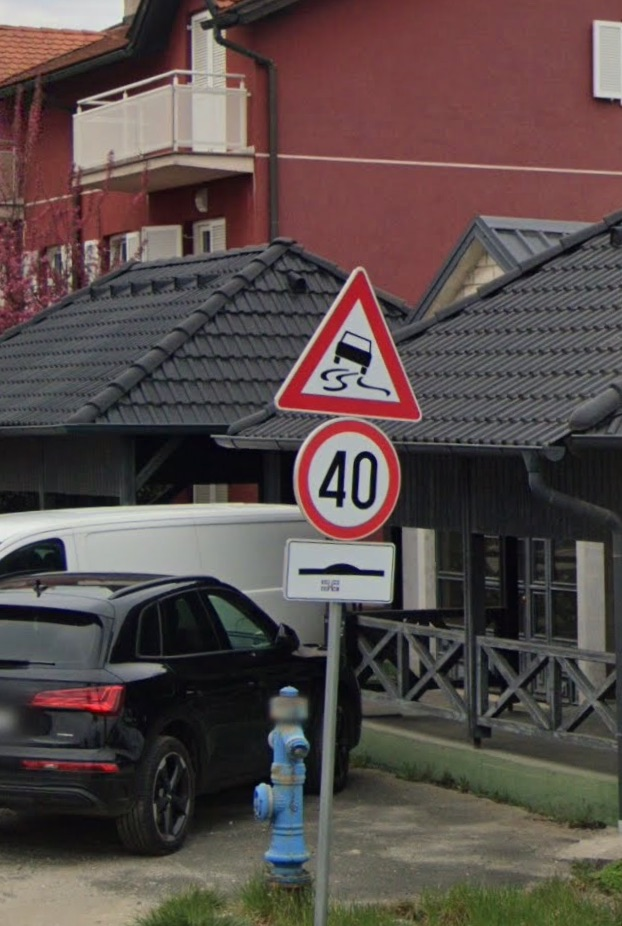Ograničenje brzine 40: (295, 416, 402, 540)
